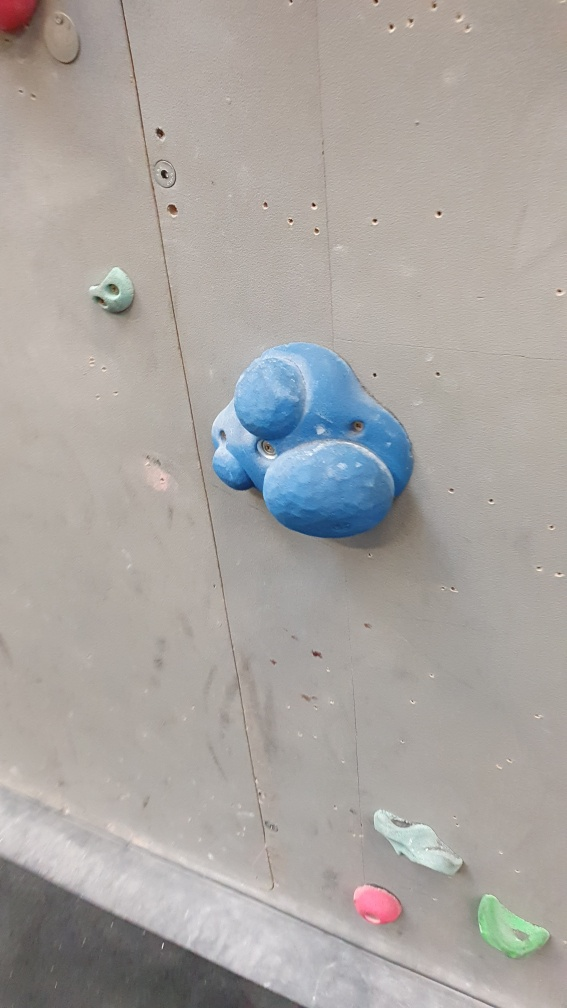Sloper: (197, 338, 419, 539)
